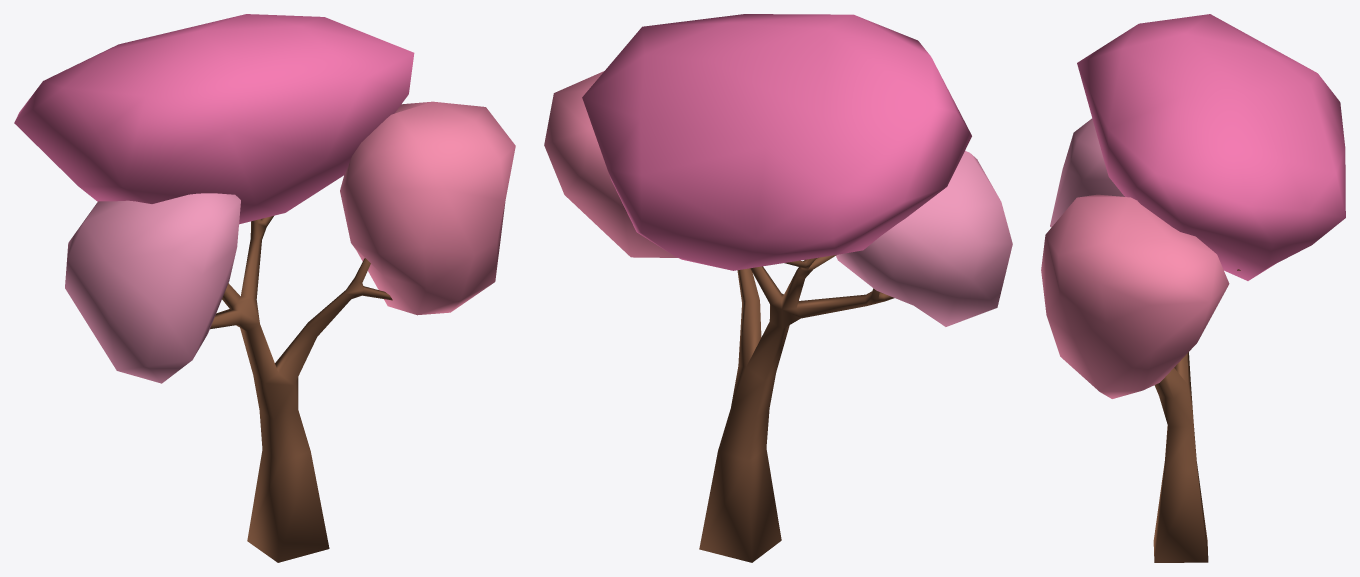
The model's file is Oak_Pink_2.fbx.
3 renders of one model, left to right at view 1: azimuth 30°, elevation 25°; view 2: azimuth 150°, elevation 25°; view 3: azimuth 270°, elevation 25°, orthographic. The views are drawn at different scales.
Visible parts, largest first — view 1: Foliage35, Foliage36, Foliage34, Trunk_12; view 2: Foliage35, Trunk_12, Foliage34, Foliage36; view 3: Foliage35, Foliage36, Trunk_12, Foliage34.
Boxes of the visible parts, x1,y1,x2,y2 form: Foliage35: (14,14,414,224); Foliage36: (340,101,515,315); Foliage34: (65,193,240,383); Trunk_12: (210,216,392,562); Foliage35: (582,14,971,270); Trunk_12: (699,255,894,562); Foliage34: (836,151,1012,326); Foliage36: (544,71,677,257); Foliage35: (1077,14,1345,280); Foliage36: (1041,194,1229,398); Trunk_12: (1153,269,1240,562); Foliage34: (1050,118,1124,227).
Bounding box in the file's own units: 527 × 627 × 361.
